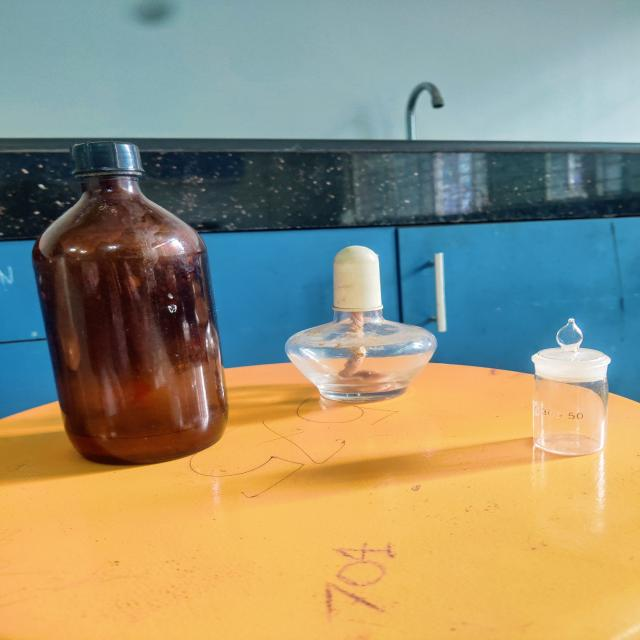Nessler_Reagent_Bottle: (9, 124, 241, 488)
Spirit_Lamp: (269, 236, 454, 418)
Weighing_Bottle: (502, 303, 640, 482)
